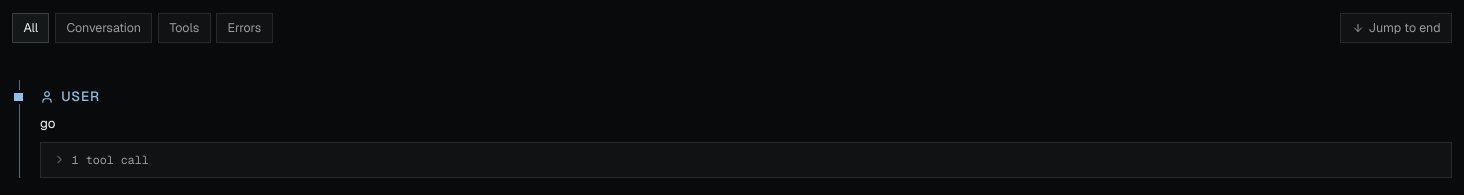
Test: trajectory markers › the errors filter explains an error-free transcript
The width and height of the screenshot is (1464, 195).
Click the button "Errors" at [244, 28], box top-left (216, 13), bottom-right (273, 43)
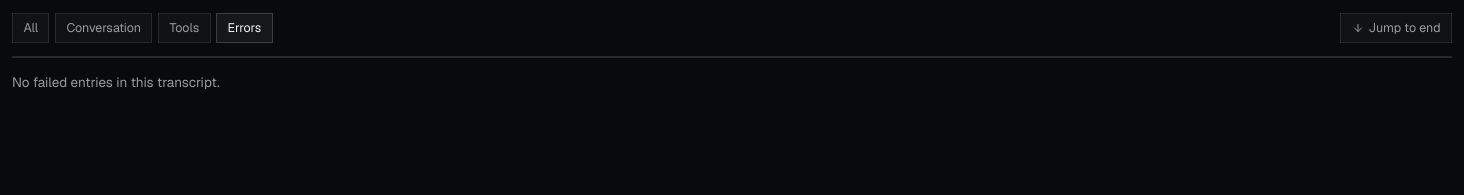
Expected: the text "No failed entries in this transcript." is shown, top-left (12, 73), bottom-right (220, 91)
